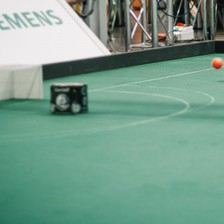ball: (210, 56, 224, 70)
goal: (1, 60, 46, 106)
robot: (48, 79, 90, 117)
